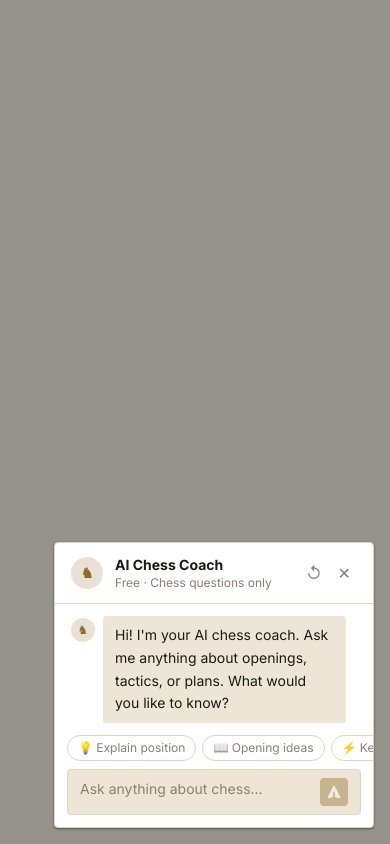
it: AICoachPanel › the clear-chat button resets to a fresh greeting
This screenshot has width=390, height=844.
Type "hello" into the text box with placeholder "Ask anything about chess…". click: (196, 792)
box: [80,778,312,806]
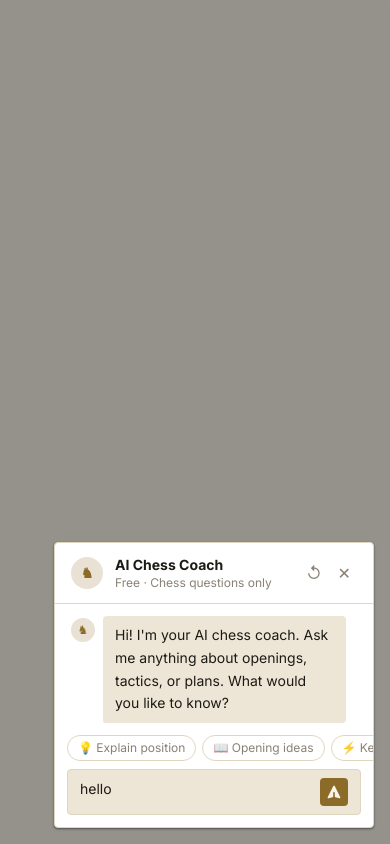
Press Enter in the text box with placeholder "Ask anything about chess…", box [80,778,312,806]
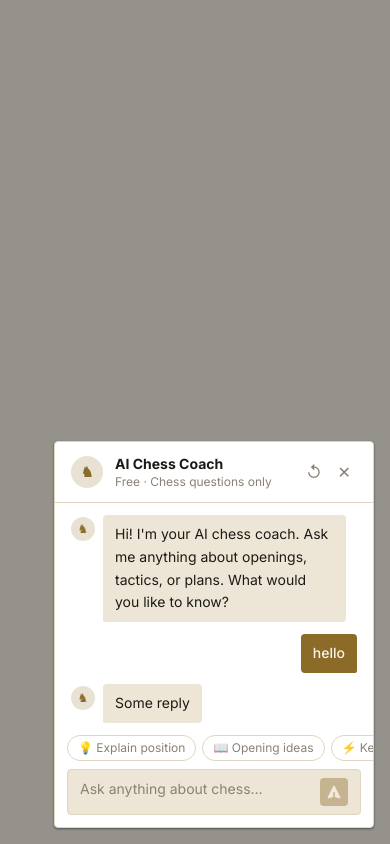
Result: the text "Some reply" is shown at [115,694,190,711]
Click the button titled "Clear chat". click: (314, 472)
box: [300,454,328,490]
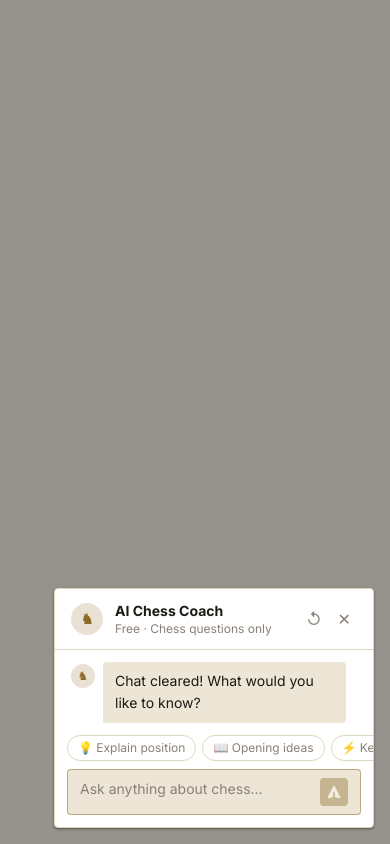
Result: the text "Some reply" is gone
Result: the text "Chat cleared! What would you like to know?" is shown at [115,672,314,711]
